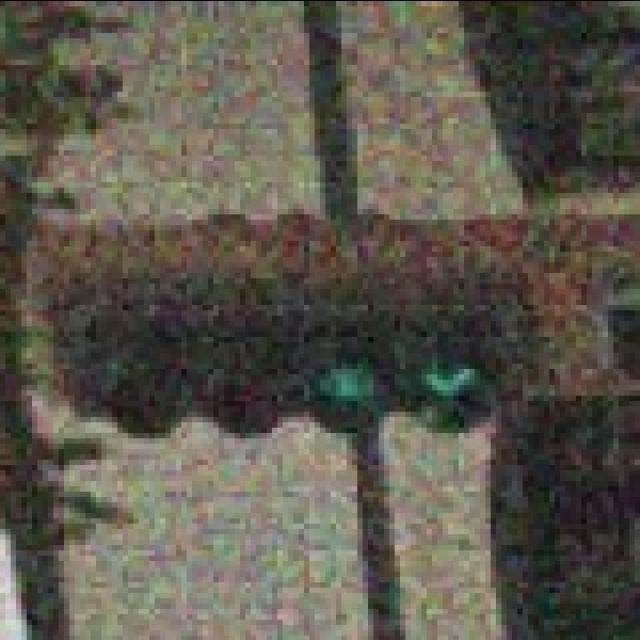green-lights: (276, 317, 391, 463)
